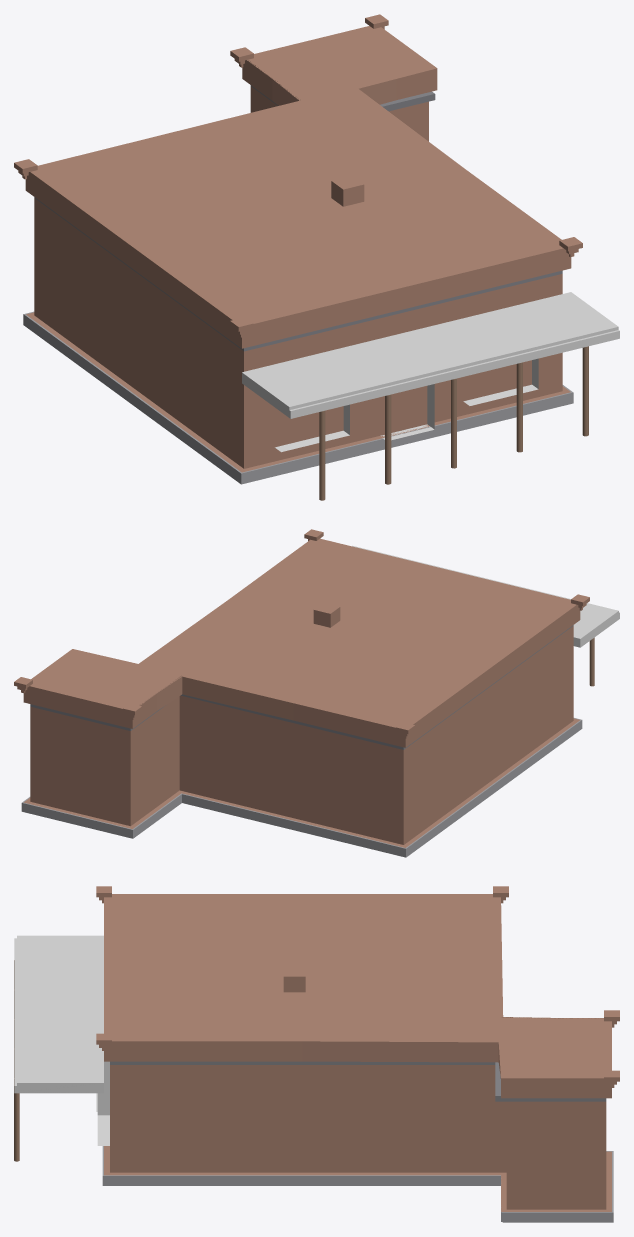
File: building_iter_001.glb
3 views of the same model, one above another, from view 1: azimuth 30°, elevation 25°; view 2: azimuth 150°, elevation 25°; view 3: azimuth 270°, elevation 25° (orthographic). The views are drawn at different scales.
Visible parts, largest first — view 1: Parapet, Building_Walls, Canopy_Roof, Foundation, Canopy_Beam, Roof_Slab, Chimney, Opening_Door_Front; view 2: Parapet, Building_Walls, Foundation, Canopy_Roof, Roof_Slab, Chimney; view 3: Parapet, Building_Walls, Canopy_Roof, Foundation, Roof_Slab, Opening_Window_Right, Chimney, Canopy_Beam.
Part boxes in pixels (box(x1,y1,x2,y2)): Parapet: box(25, 26, 571, 348); Building_Walls: box(26, 86, 570, 472); Canopy_Roof: box(242, 292, 618, 417); Foundation: box(23, 311, 573, 484); Canopy_Beam: box(289, 330, 619, 418); Roof_Slab: box(34, 85, 562, 351); Chimney: box(331, 175, 364, 206); Opening_Door_Front: box(380, 384, 434, 440); Parapet: box(23, 538, 580, 747); Building_Walls: box(24, 626, 579, 847); Foundation: box(21, 718, 582, 857); Canopy_Roof: box(352, 545, 618, 647); Roof_Slab: box(30, 625, 573, 749); Chimney: box(313, 602, 340, 627); Parapet: box(104, 894, 611, 1098); Building_Walls: box(104, 1065, 611, 1211); Canopy_Roof: box(17, 935, 103, 1093); Foundation: box(102, 1146, 613, 1222); Roof_Slab: box(110, 1061, 606, 1101); Opening_Window_Right: box(97, 1061, 109, 1145); Chimney: box(283, 967, 305, 992); Canopy_Beam: box(14, 938, 18, 1093).
Bounding box in the file's own units: 14.25 × 5.55 × 19.09.
